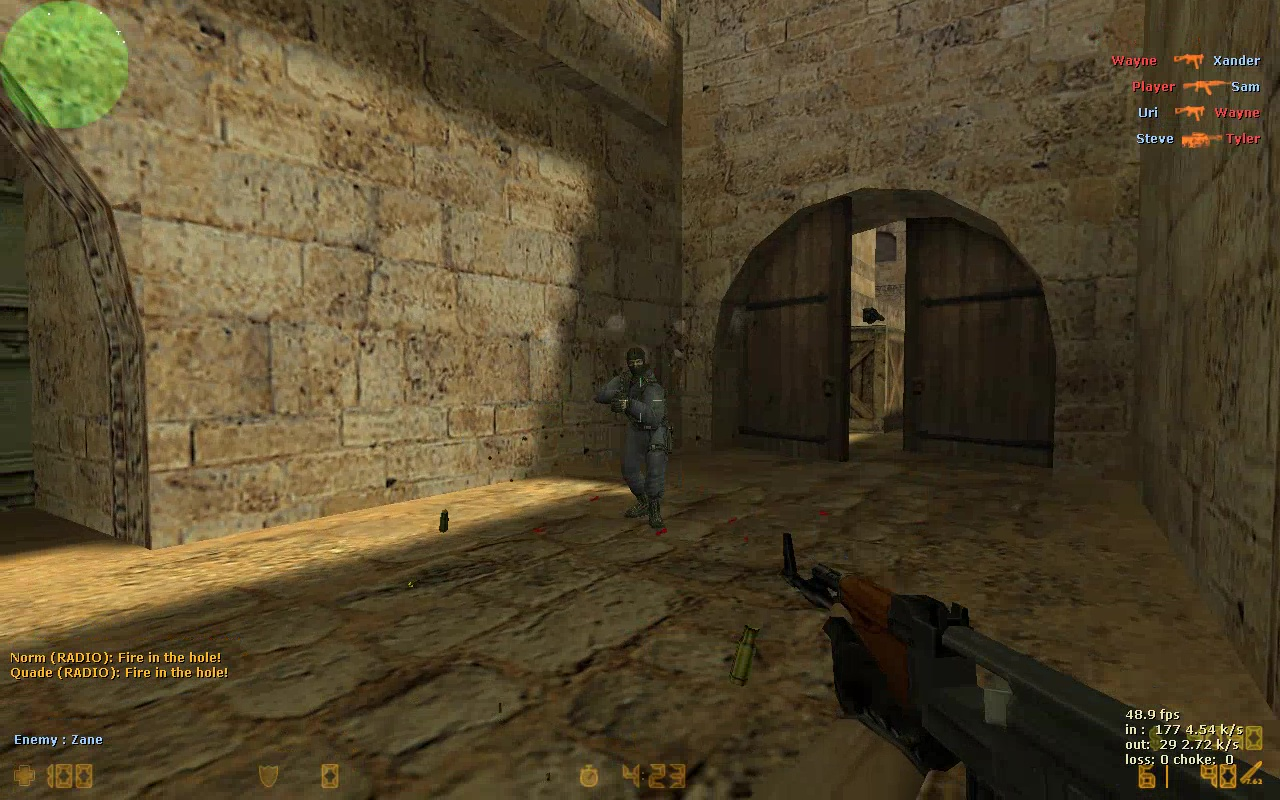ct: (594, 346, 673, 528)
